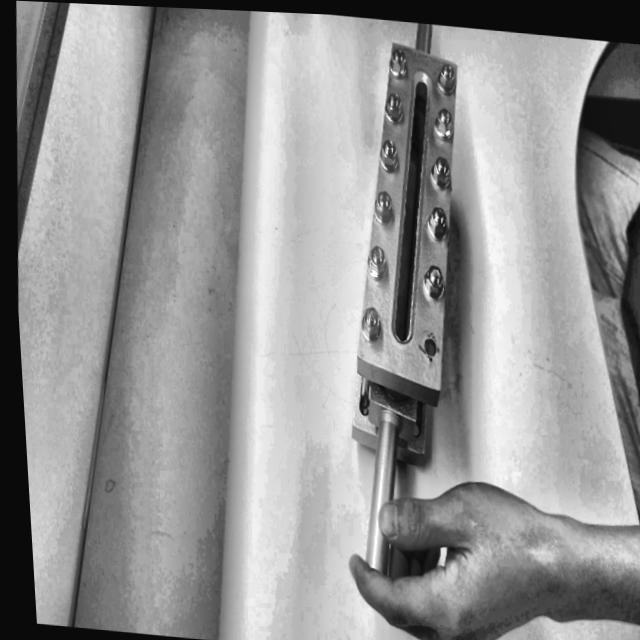ShuiWeiQi_11: (278, 12, 522, 465)
